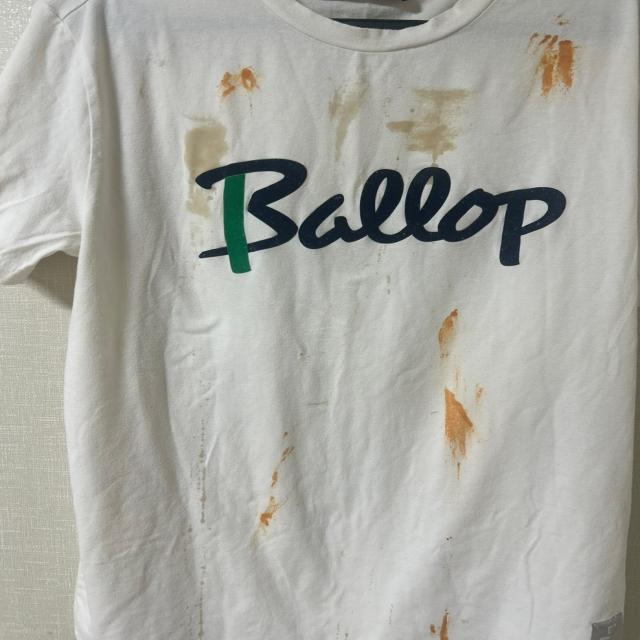stain: (384, 82, 471, 171), (178, 109, 235, 223), (526, 27, 586, 103), (250, 444, 295, 532), (325, 80, 364, 156), (442, 394, 482, 465), (190, 423, 214, 528), (207, 69, 271, 102), (430, 304, 464, 360), (181, 560, 204, 640), (372, 242, 401, 300), (417, 614, 470, 640), (532, 13, 582, 31), (380, 602, 400, 629), (328, 621, 356, 640), (466, 382, 484, 399), (455, 362, 465, 390), (278, 428, 302, 439), (441, 533, 454, 548)
